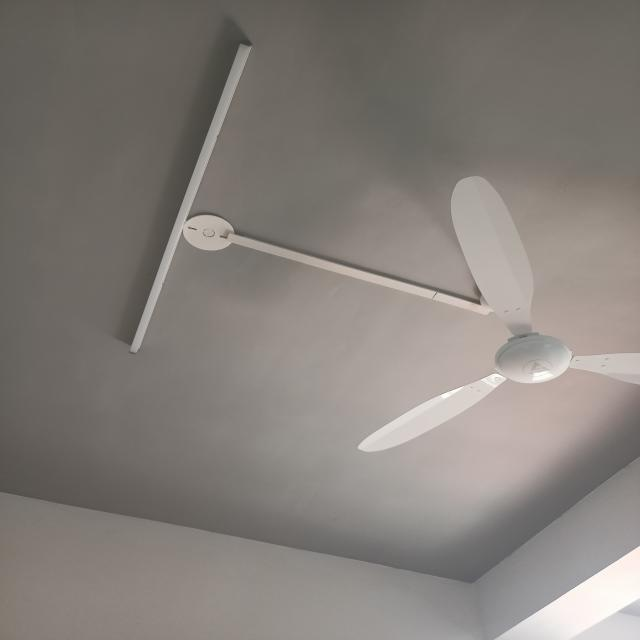fluorescent tube: (121, 35, 256, 362)
